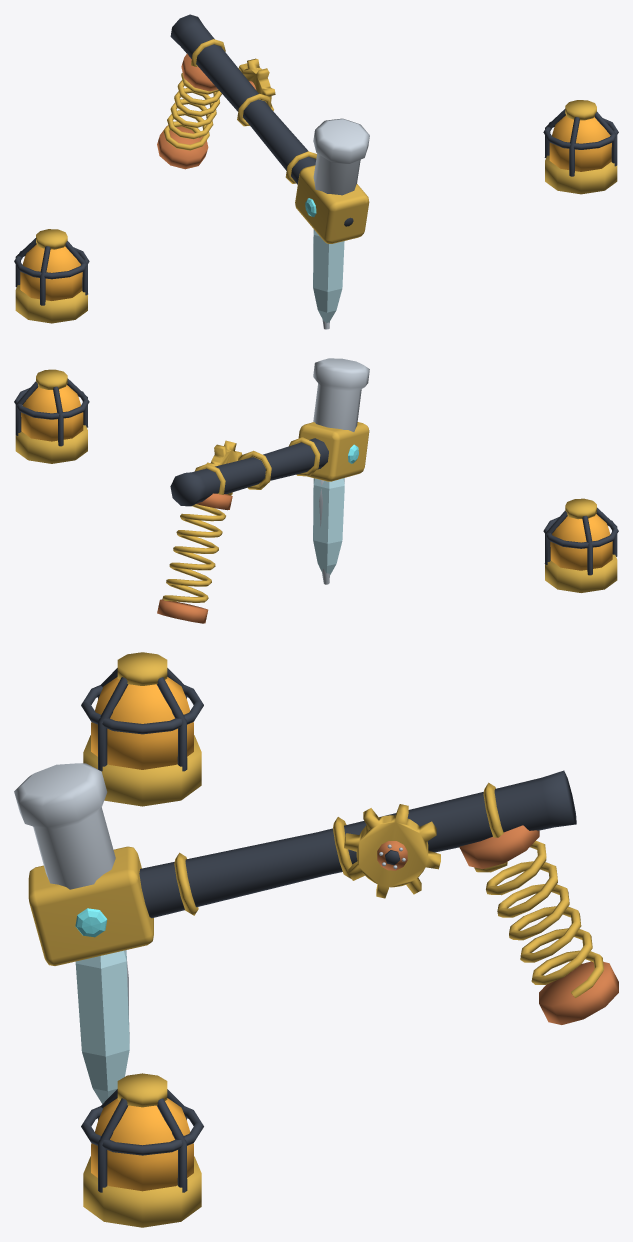
File: IcePickPost_T2_Upgrades.fbx
3 views of the same model, one above another, from view 1: azimuth 30°, elevation 25°; view 2: azimuth 150°, elevation 25°; view 3: azimuth 270°, elevation 25° (orthographic). The views are drawn at different scales.
Parts seen in each view (by area): view 1: IcePickPostT2U1PickA, IcePickPostT2U3Spring1, IcePickPostT2U2Lamp1, IcePickPostT2U2Lamp2, IcePickPostT2U2Lamp1Glow, IcePickPostT2U2Lamp2Glow, IcePickPostT2U5PickA; view 2: IcePickPostT2U1PickA, IcePickPostT2U3Spring1, IcePickPostT2U2Lamp1, IcePickPostT2U2Lamp2, IcePickPostT2U5PickA, IcePickPostT2U2Lamp2Glow, IcePickPostT2U2Lamp1Glow; view 3: IcePickPostT2U1PickA, IcePickPostT2U3Spring1, IcePickPostT2U2Lamp2, IcePickPostT2U2Lamp1, IcePickPostT2U5PickA, IcePickPostT2U2Lamp2Glow, IcePickPostT2U2Lamp1Glow.
Part boxes in pixels (left/top/right/bottom): IcePickPostT2U1PickA: left=170, top=14, right=369, bottom=329; IcePickPostT2U3Spring1: left=157, top=53, right=221, bottom=169; IcePickPostT2U2Lamp1: left=14, top=229, right=89, bottom=323; IcePickPostT2U2Lamp2: left=543, top=100, right=618, bottom=194; IcePickPostT2U2Lamp1Glow: left=20, top=244, right=82, bottom=300; IcePickPostT2U2Lamp2Glow: left=549, top=115, right=611, bottom=171; IcePickPostT2U5PickA: left=313, top=229, right=344, bottom=323; IcePickPostT2U1PickA: left=170, top=358, right=369, bottom=584; IcePickPostT2U3Spring1: left=157, top=493, right=232, bottom=623; IcePickPostT2U2Lamp1: left=543, top=498, right=618, bottom=592; IcePickPostT2U2Lamp2: left=14, top=369, right=89, bottom=463; IcePickPostT2U5PickA: left=313, top=478, right=344, bottom=575; IcePickPostT2U2Lamp2Glow: left=21, top=385, right=83, bottom=441; IcePickPostT2U2Lamp1Glow: left=550, top=514, right=612, bottom=570; IcePickPostT2U1PickA: left=14, top=763, right=576, bottom=1018; IcePickPostT2U3Spring1: left=459, top=825, right=618, bottom=1024; IcePickPostT2U2Lamp2: left=81, top=1073, right=203, bottom=1227; IcePickPostT2U2Lamp1: left=81, top=652, right=203, bottom=806; IcePickPostT2U5PickA: left=75, top=950, right=129, bottom=1103; IcePickPostT2U2Lamp2Glow: left=91, top=1098, right=193, bottom=1191; IcePickPostT2U2Lamp1Glow: left=91, top=677, right=193, bottom=769.
Bounding box in the file's own units: 686 × 234 × 370.
